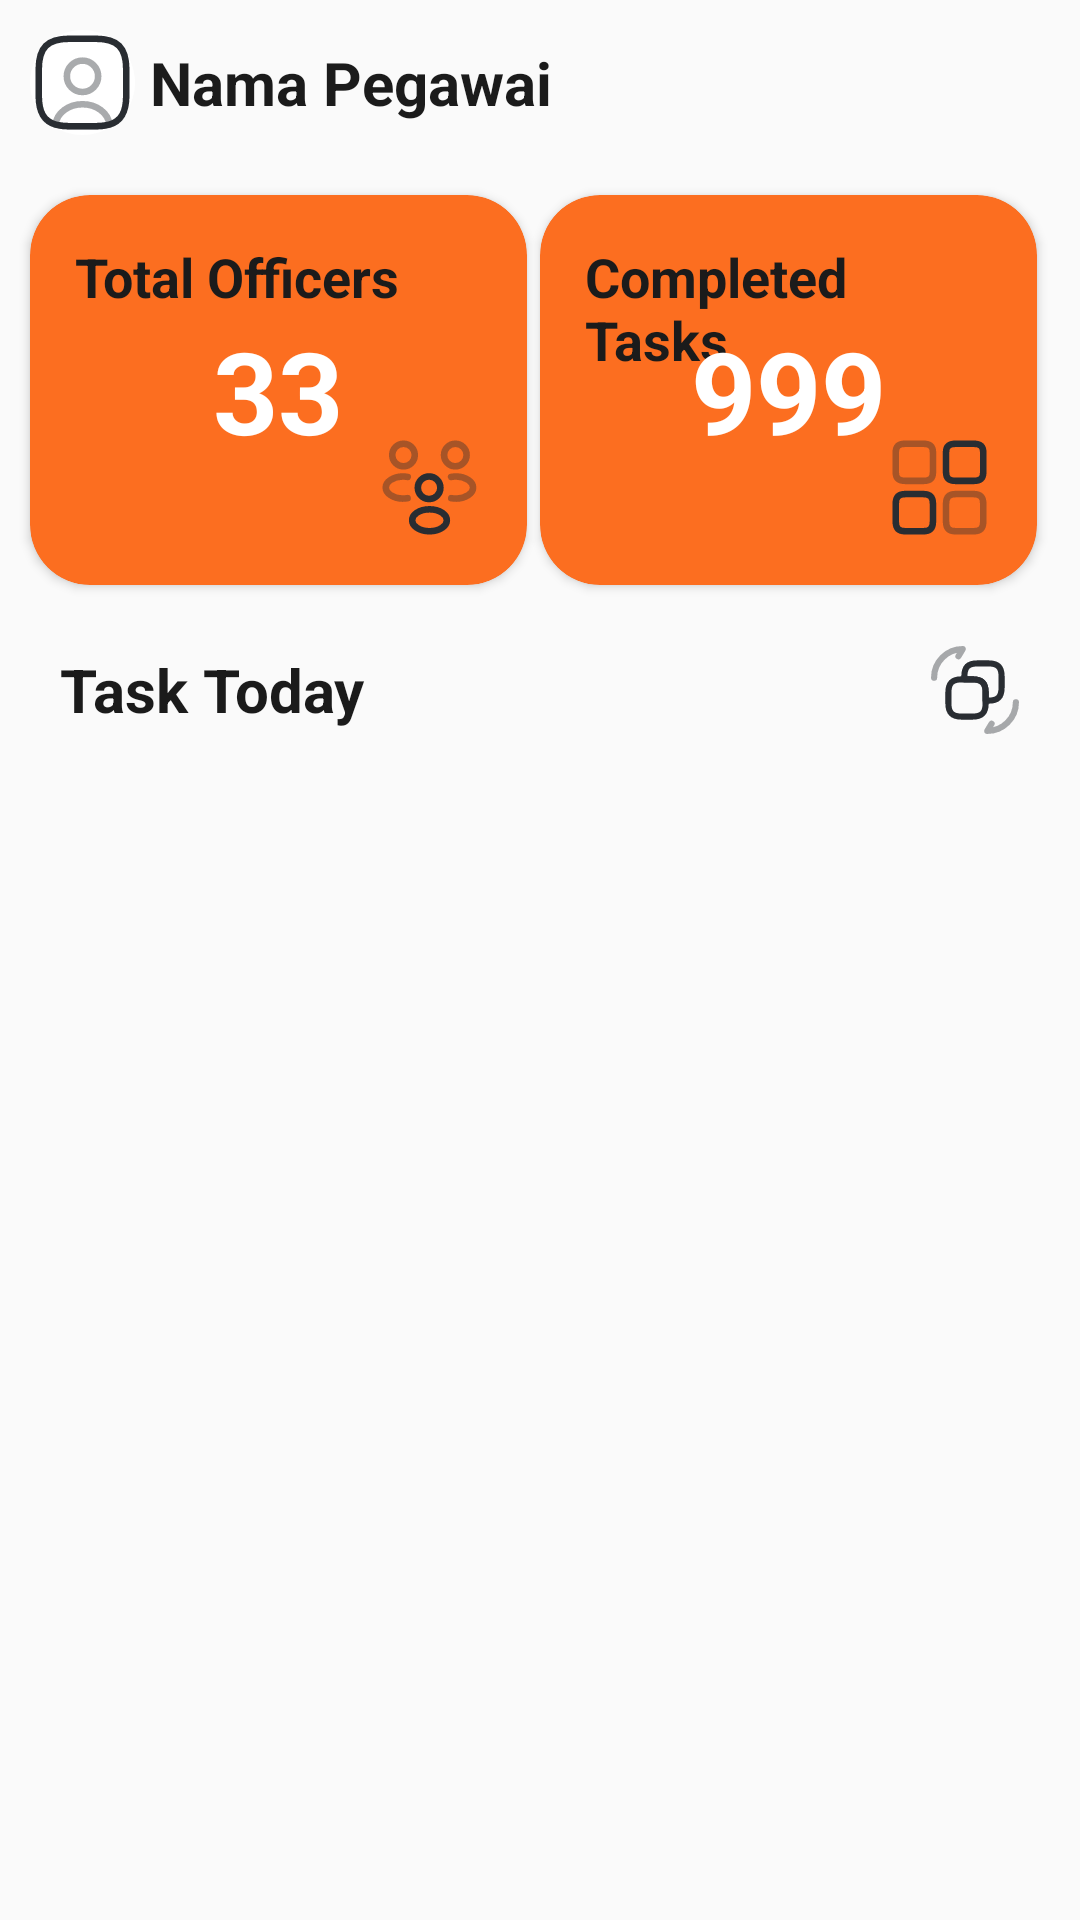

Locate icon controls on the screen. Image size 1080 x 1920, boxes as detection(x1, y1, x2, y2).
peoples: detection(382, 440, 476, 535)
username: detection(35, 35, 130, 130)
